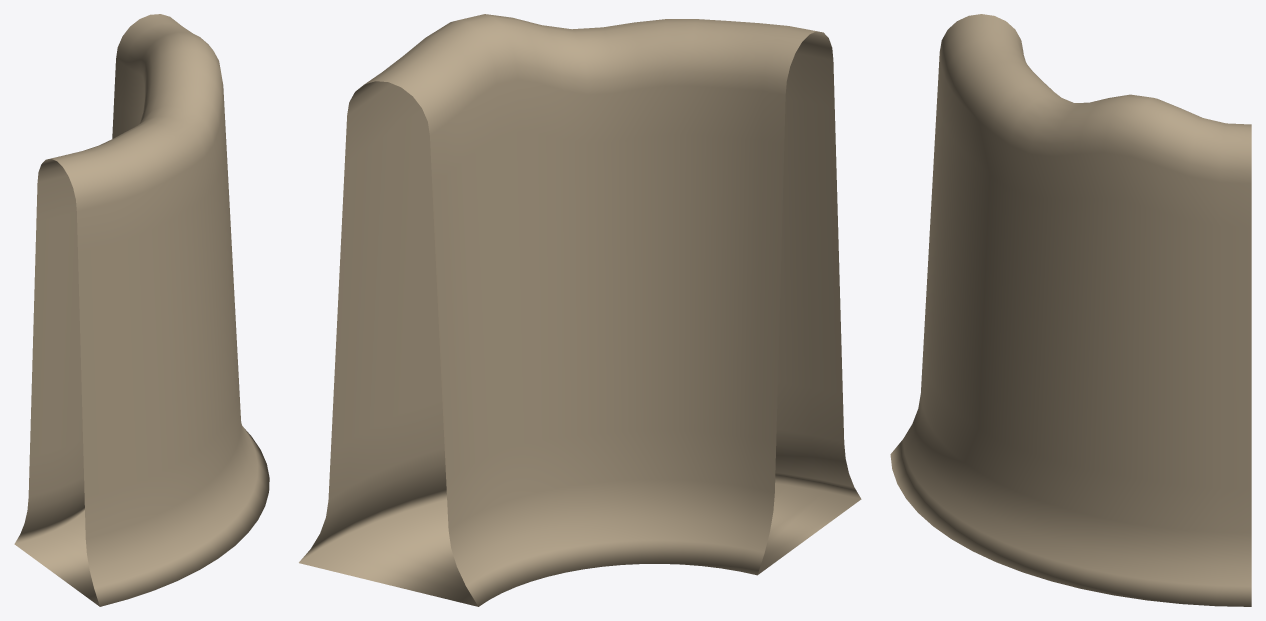
Rendered from KFB_Wall_curved_quarter.r3.glb.
3 renders of one model, left to right at view 1: azimuth 30°, elevation 25°; view 2: azimuth 150°, elevation 25°; view 3: azimuth 270°, elevation 25°, orthographic. The views are drawn at different scales.
Visible parts, largest first — view 1: KFB_Wall_curved_quarter; view 2: KFB_Wall_curved_quarter; view 3: KFB_Wall_curved_quarter.
Boxes of the visible parts, left/top/right/bottom form: KFB_Wall_curved_quarter: left=14, top=14, right=269, bottom=606; KFB_Wall_curved_quarter: left=299, top=14, right=861, bottom=606; KFB_Wall_curved_quarter: left=890, top=14, right=1251, bottom=606.
Bounding box in the file's own units: 2.68 × 3.75 × 2.68.
